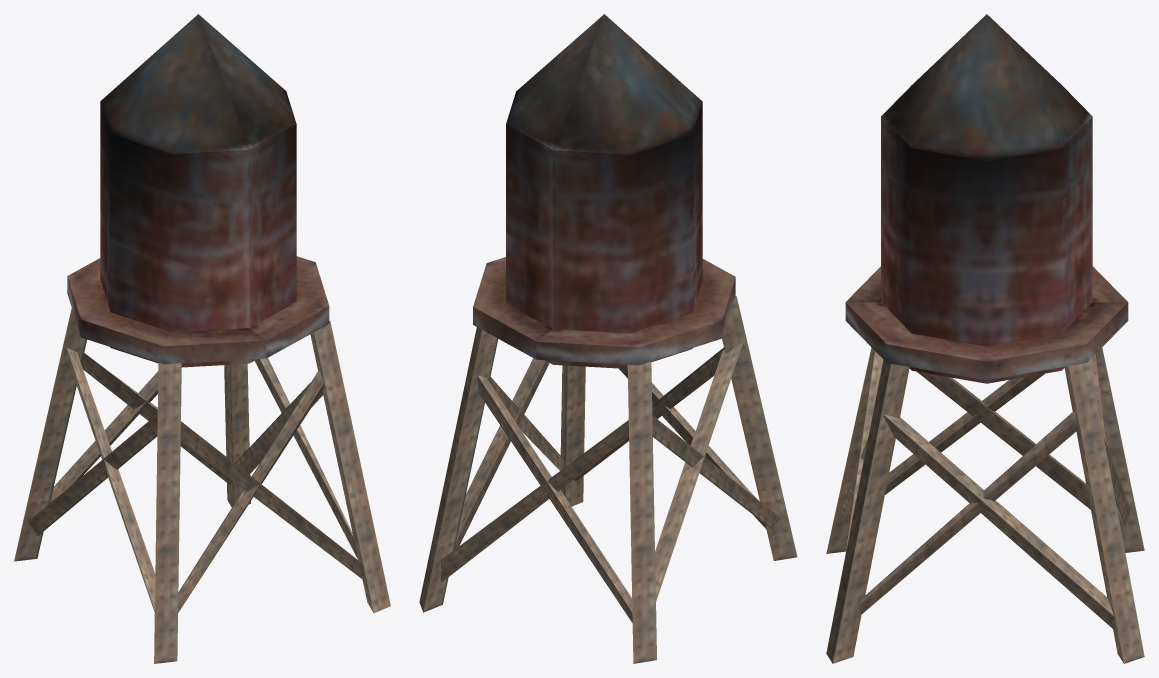
The model's file is water_tank.FBX.
3 renders of one model, left to right at view 1: azimuth 30°, elevation 25°; view 2: azimuth 150°, elevation 25°; view 3: azimuth 270°, elevation 25°, orthographic. The views are drawn at different scales.
Parts seen in each view (by area): view 1: Object001; view 2: Object001; view 3: Object001.
Boxes of the visible parts, x1,y1,x2,y2 form: Object001: [14, 14, 390, 663]; Object001: [419, 14, 797, 663]; Object001: [826, 14, 1144, 663].
Size of the model in its own units: 2.11 by 4.81 by 2.36.
